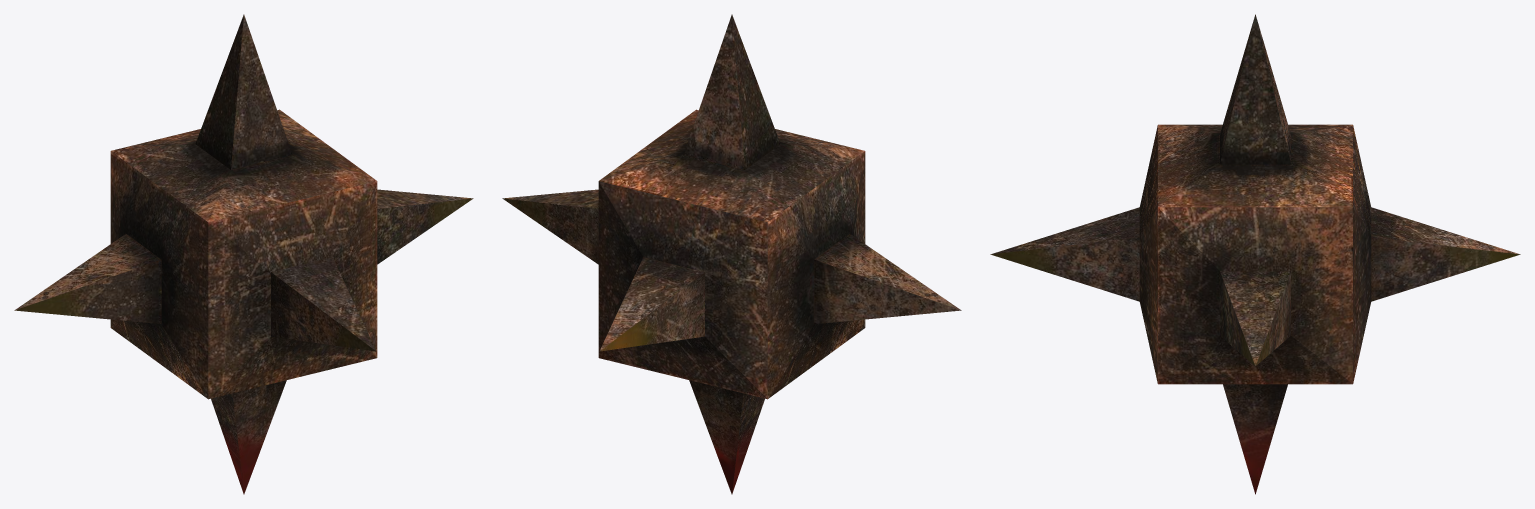
Rendered from Pinche_4toE.fbx.
3 renders of one model, left to right at view 1: azimuth 30°, elevation 25°; view 2: azimuth 150°, elevation 25°; view 3: azimuth 270°, elevation 25°, orthographic.
Visible parts, largest first — view 1: PincheOxidadoi; view 2: PincheOxidadoi; view 3: PincheOxidadoi.
Part boxes in pixels (x1,y1,x2,y2): PincheOxidadoi: [14, 14, 473, 494]; PincheOxidadoi: [502, 14, 961, 494]; PincheOxidadoi: [990, 14, 1520, 494].
Size of the model in its own units: 729 by 729 by 729.
Materials: 1 (1 with a texture image).
